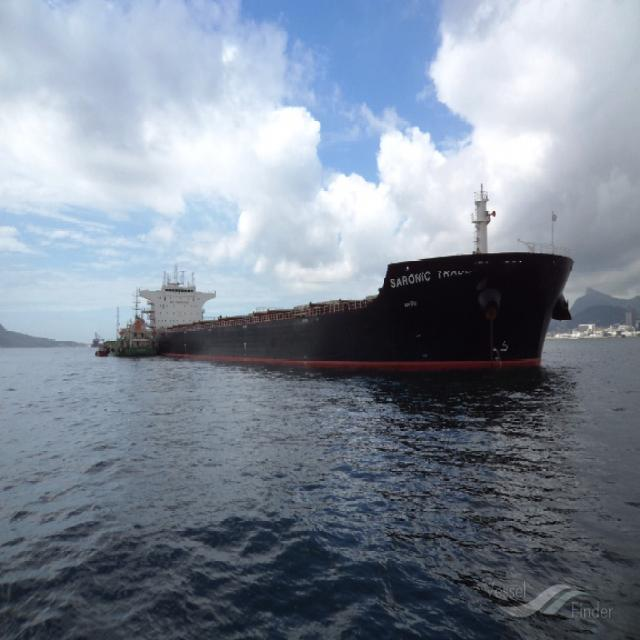OCR: (384, 272, 488, 300)
